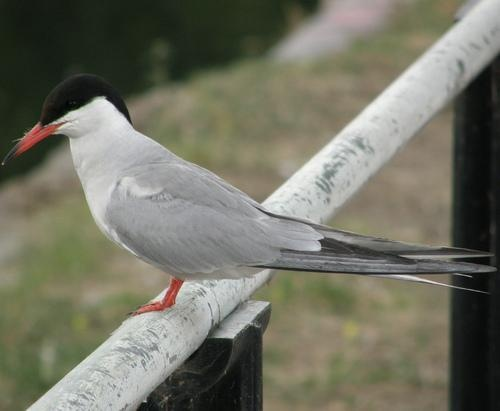bird: (1, 73, 496, 316)
